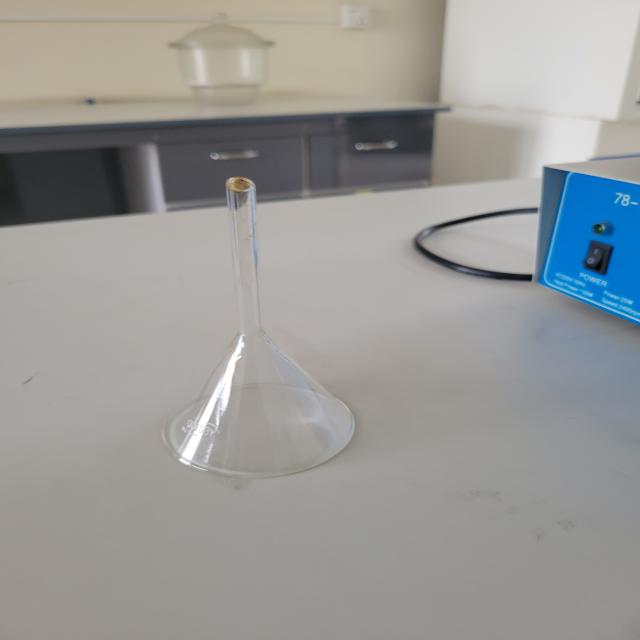Funnel: (119, 156, 395, 500)
